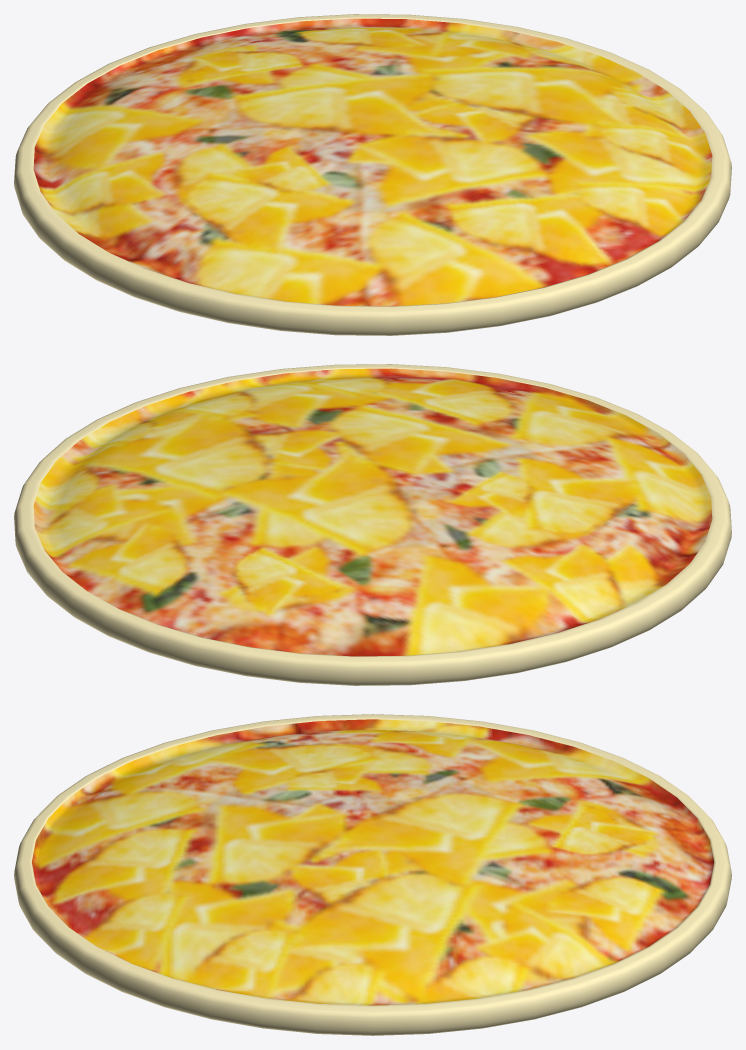
The model's file is pizzaPineapple.gltf.
3 renders of one model, top to bottom at view 1: azimuth 30°, elevation 25°; view 2: azimuth 150°, elevation 25°; view 3: azimuth 270°, elevation 25°, orthographic.
Bounding box in the file's own units: 0.6849 × 0.0628 × 0.6849.
Materials: 3 (1 with a texture image).
